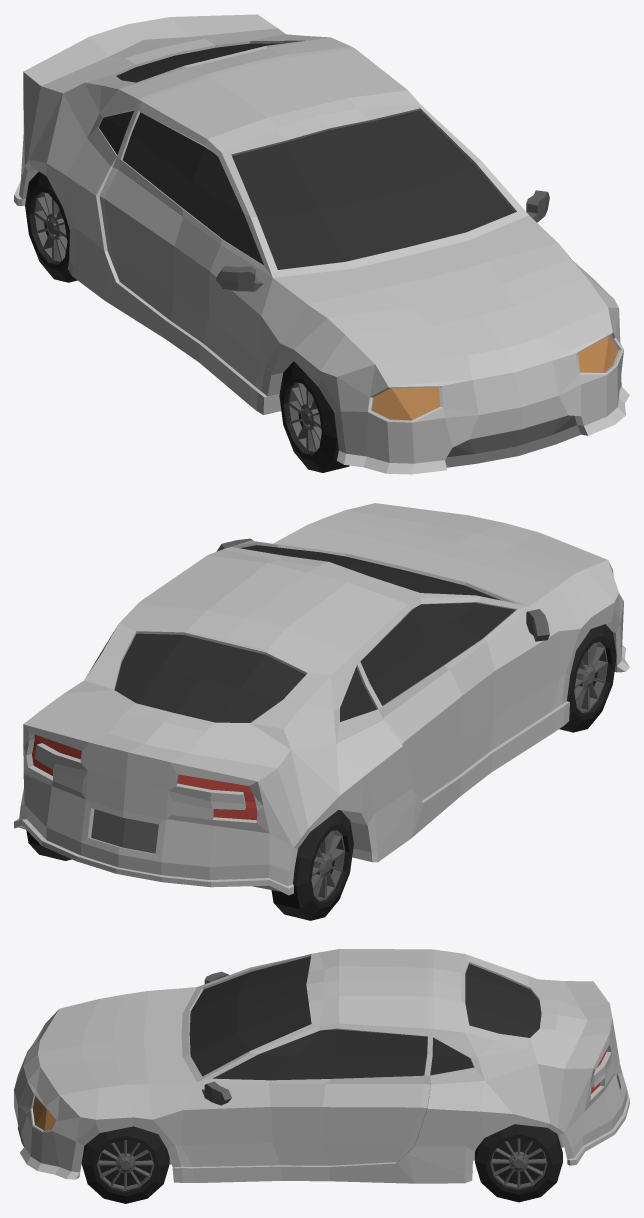
The model's file is poly-sport-coupe.glb.
3 renders of one model, top to bottom at view 1: azimuth 30°, elevation 25°; view 2: azimuth 150°, elevation 25°; view 3: azimuth 270°, elevation 25°, orthographic. The views are drawn at different scales.
Parts seen in each view (by area): view 1: SportsCar2_Cube.006, SportsCar2_BackWheels_Cylinder.002; view 2: SportsCar2_Cube.006, SportsCar2_BackWheels_Cylinder.002; view 3: SportsCar2_Cube.006, SportsCar2_BackWheels_Cylinder.002.
Part boxes in pixels (x1=…): SportsCar2_Cube.006: x1=14, y1=14, x2=629, y2=474; SportsCar2_BackWheels_Cylinder.002: x1=25, y1=171, x2=349, y2=472; SportsCar2_Cube.006: x1=14, y1=503, x2=629, y2=901; SportsCar2_BackWheels_Cylinder.002: x1=26, y1=624, x2=616, y2=920; SportsCar2_Cube.006: x1=14, y1=949, x2=629, y2=1190; SportsCar2_BackWheels_Cylinder.002: x1=81, y1=1124, x2=562, y2=1203.
Size of the model in its own units: 1.87 by 1.2 by 3.93.
